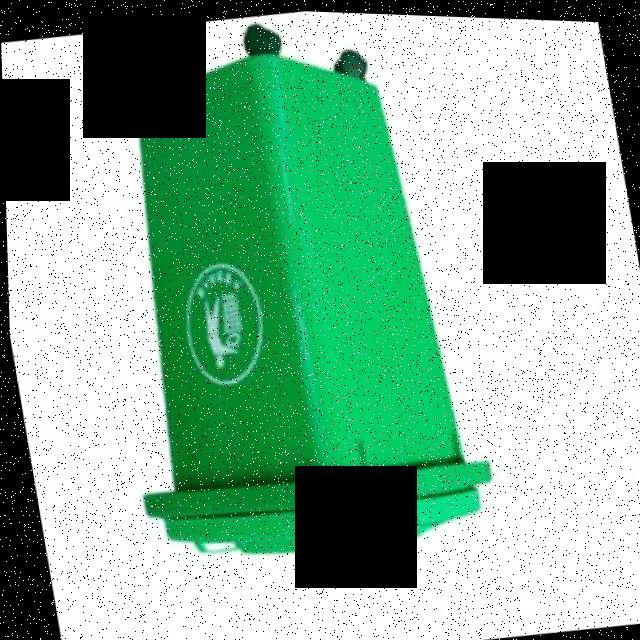bin: (49, 1, 527, 606)
